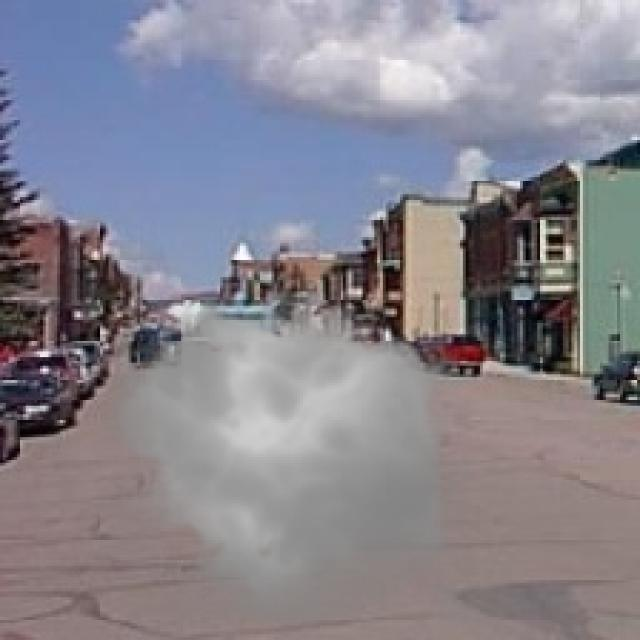Smoke: (100, 277, 469, 637)
